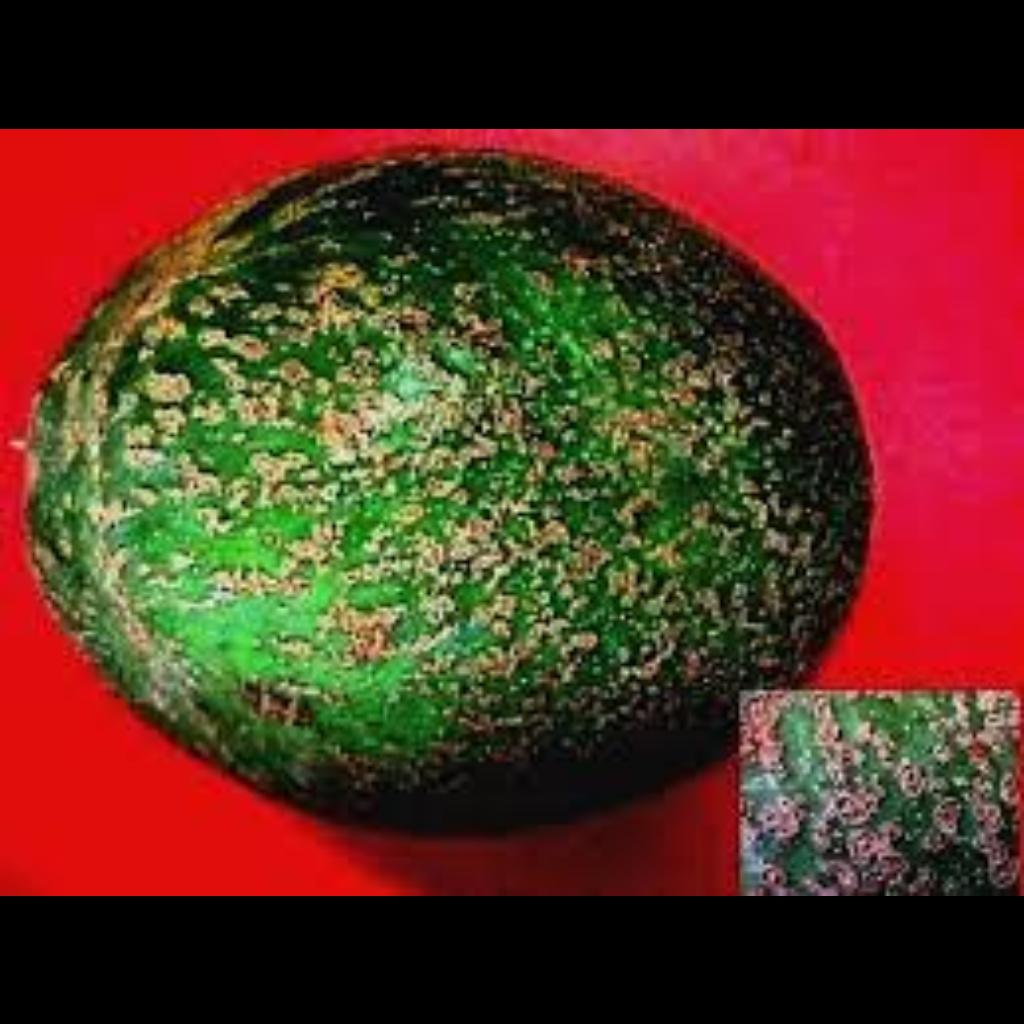cercospora_spot: (77, 253, 773, 723)
